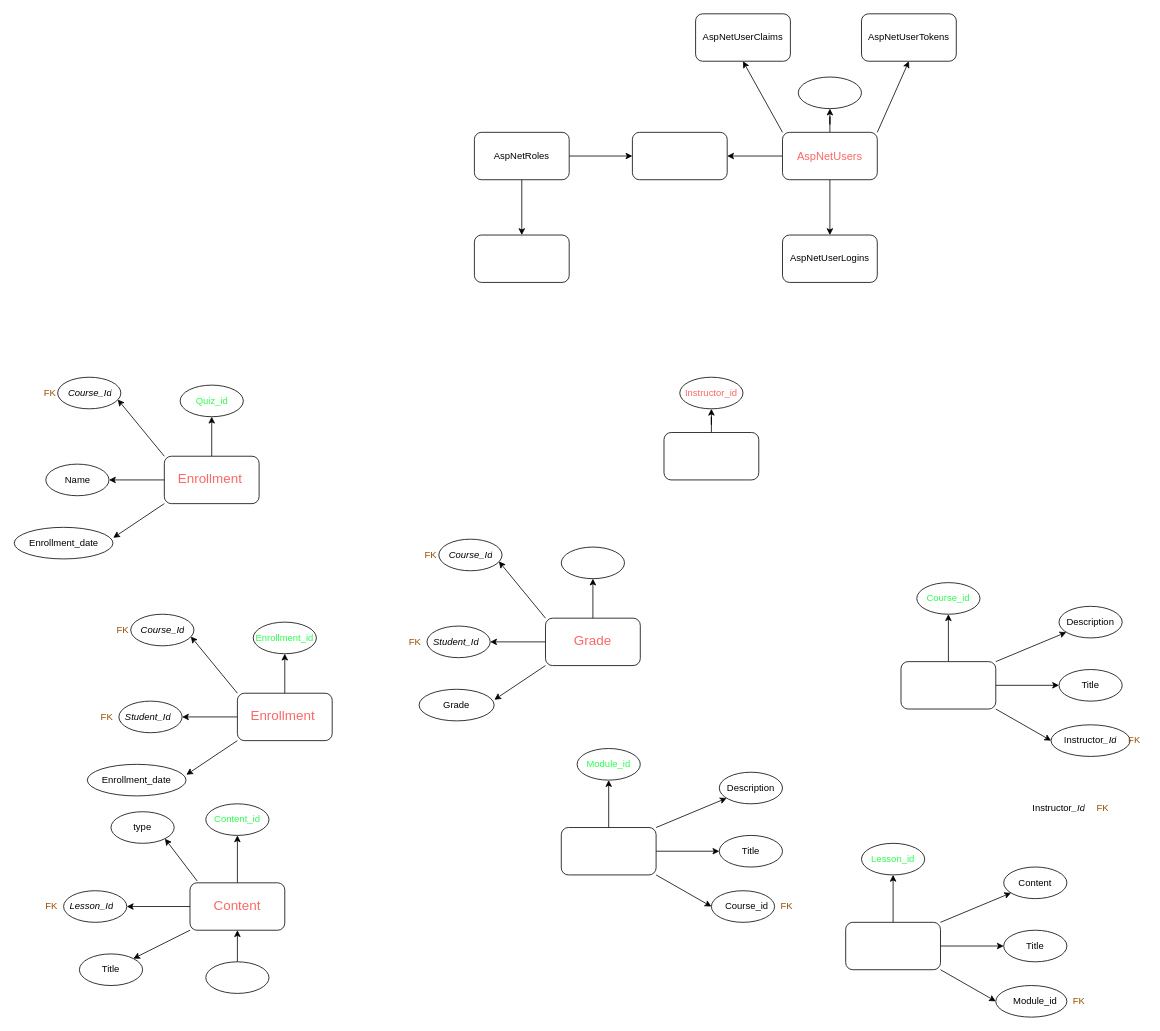
The diagram is 1160 pixels wide and 1031 high, and some of its shapes have lost their labels. Here are the shapes that lost their labels. From the top down, the centre of each, then its label:
At pixel 829 92: "User_Id".
At pixel 679 156: "AspNetUserRoles".
At pixel 521 258: "AspNetRolesClaims".
At pixel 711 456: "instructor".
At pixel 592 562: "Grade_id".
At pixel 948 685: "Course".
At pixel 608 851: "Module".
At pixel 892 946: "Lesson".
At pixel 237 977: "file_path".
